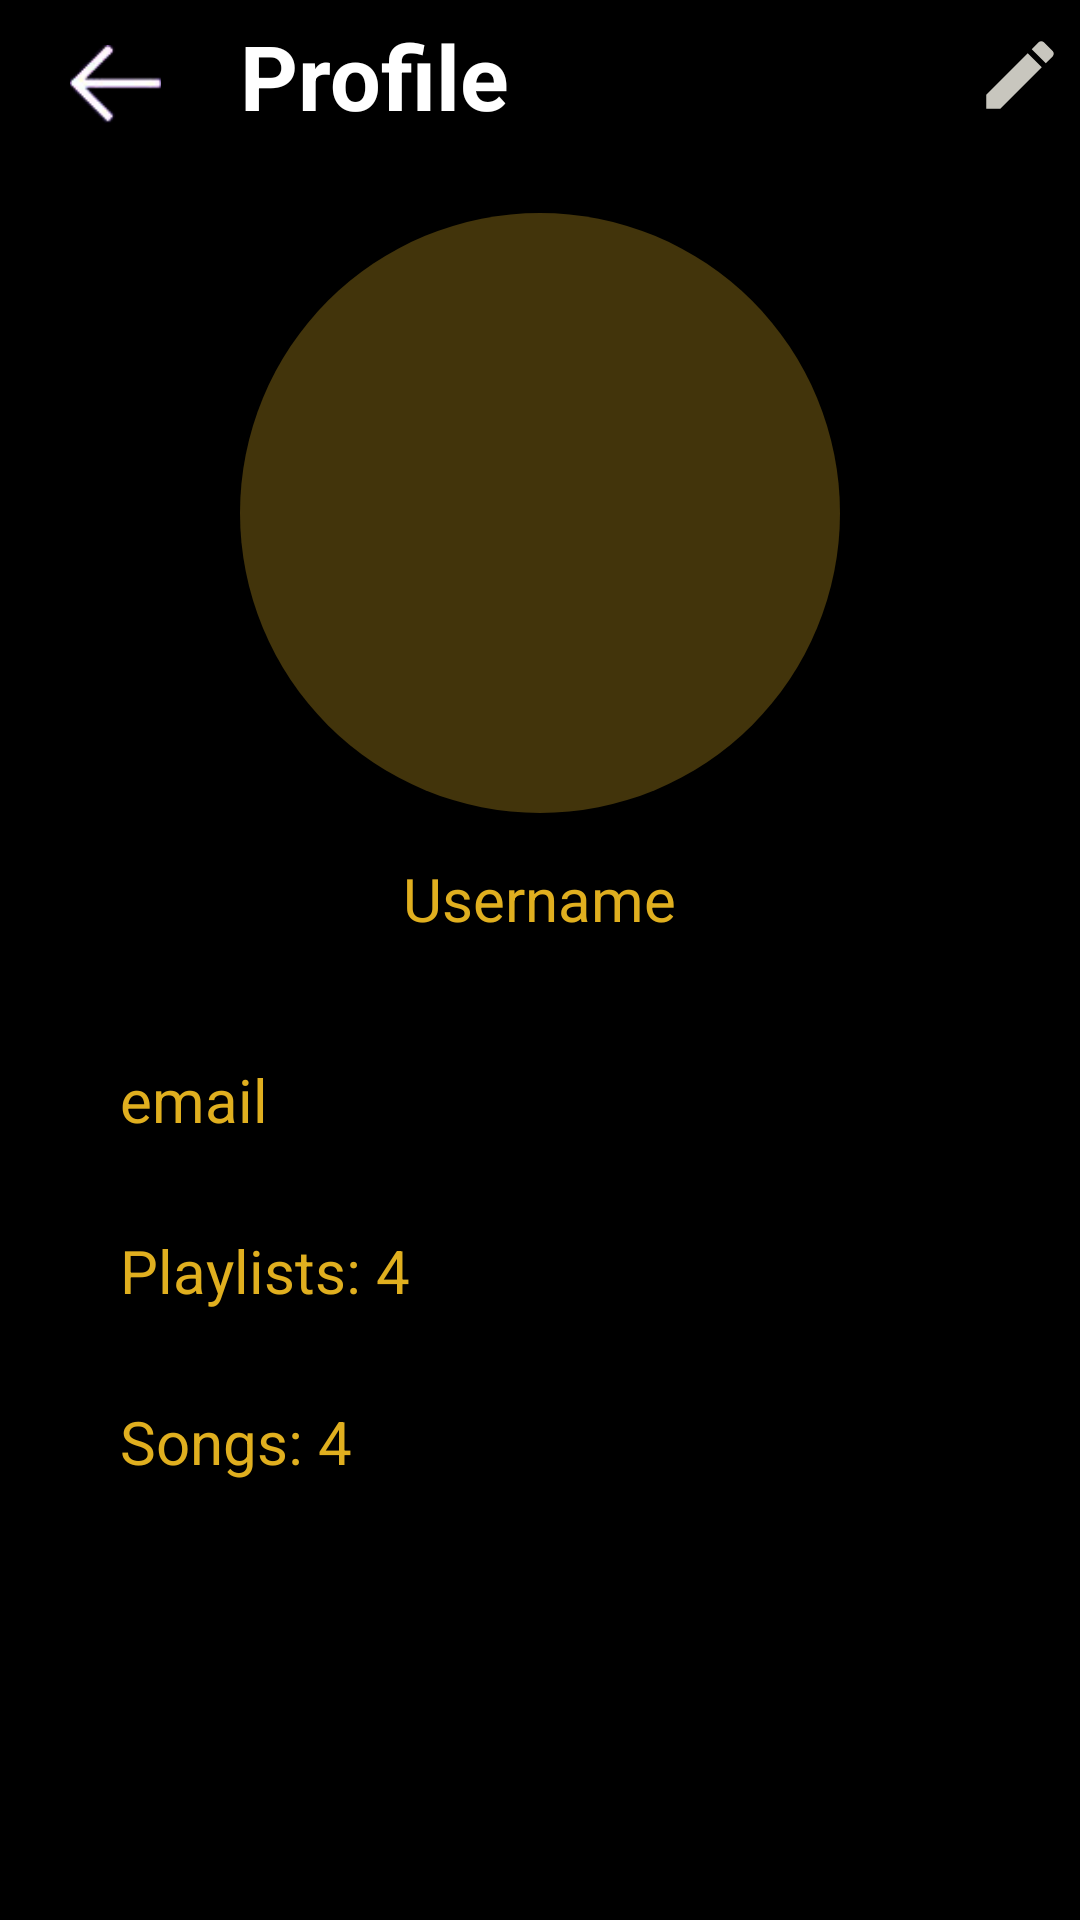

Where icons sit on this 1080px x 1920px app screen, as (x1, y1, x2, y2):
back: (70, 45, 161, 122)
editprofile: (986, 41, 1054, 109)
